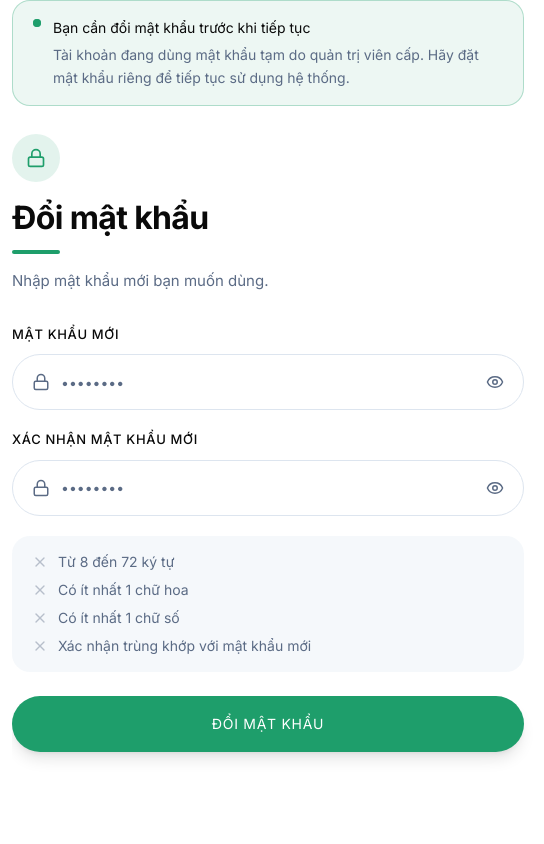
Scenario: ChangePasswordForm › mật khẩu mới chưa đạt chính sách (thiếu chữ hoa/chữ số) — chặn submit
Type "lowercase" into the password field labelled "Mật khẩu mới" at (268, 382), box [12,354,524,410]
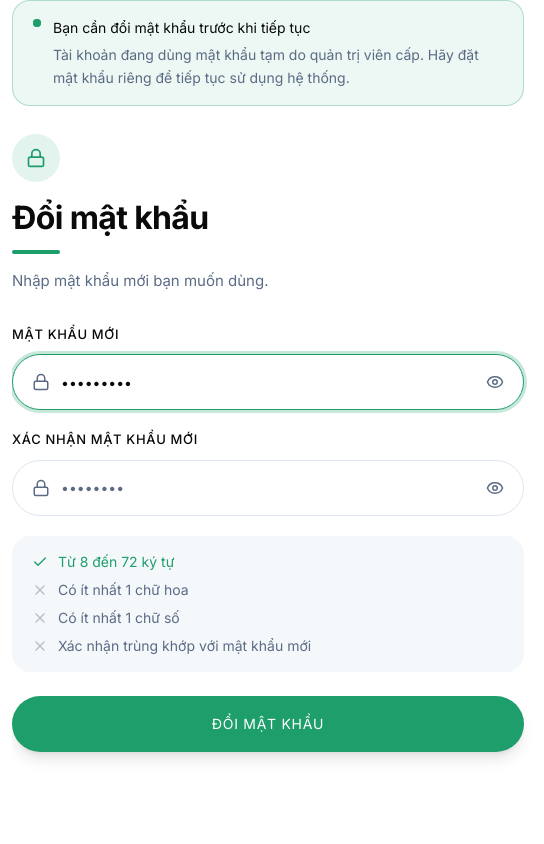
Type "lowercase" into the password field labelled "Xác nhận mật khẩu mới" at (268, 488), box [12,460,524,516]
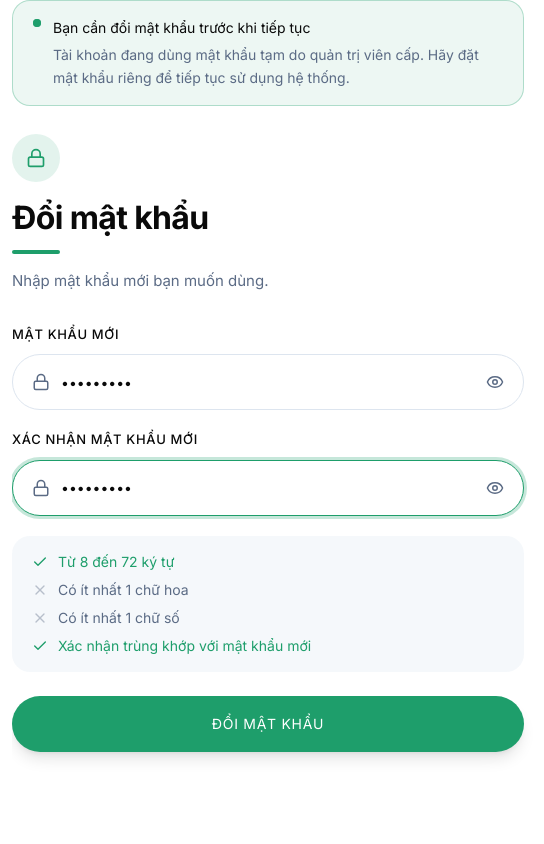
Click the button "Đổi mật khẩu" at (268, 724), box [12,696,524,752]
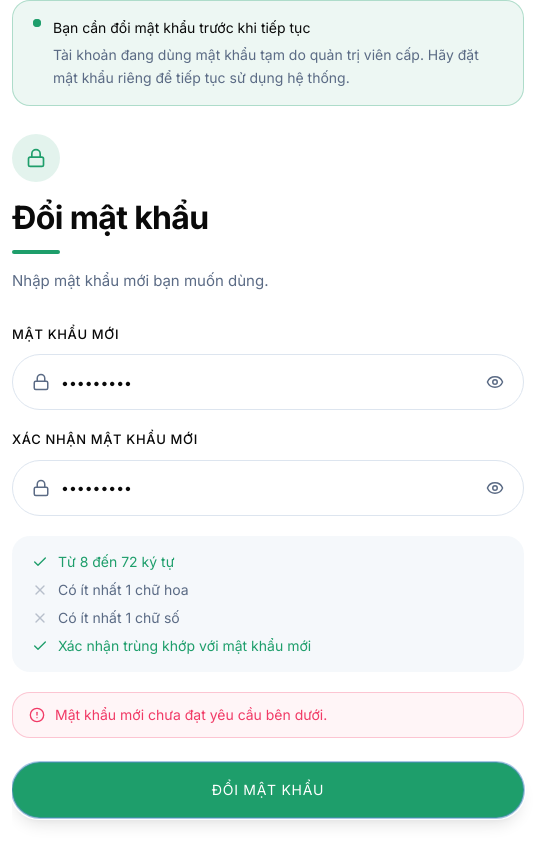
Now the text "Mật khẩu mới chưa đạt yêu cầu bên dưới." is shown, box [55,705,327,725]
